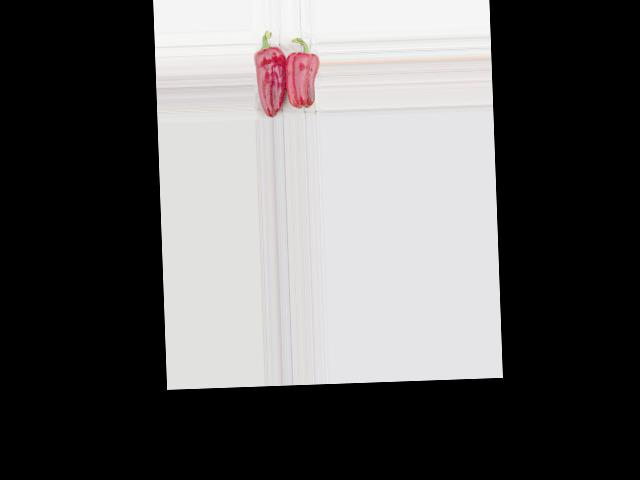bell_pepper: (253, 27, 288, 118)
